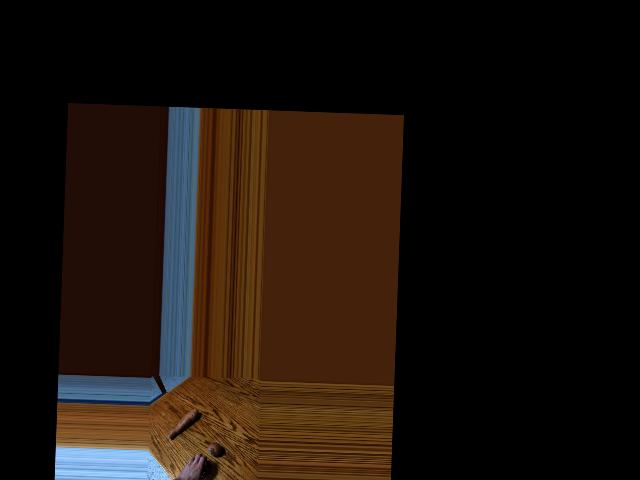onion: (196, 459, 211, 474)
